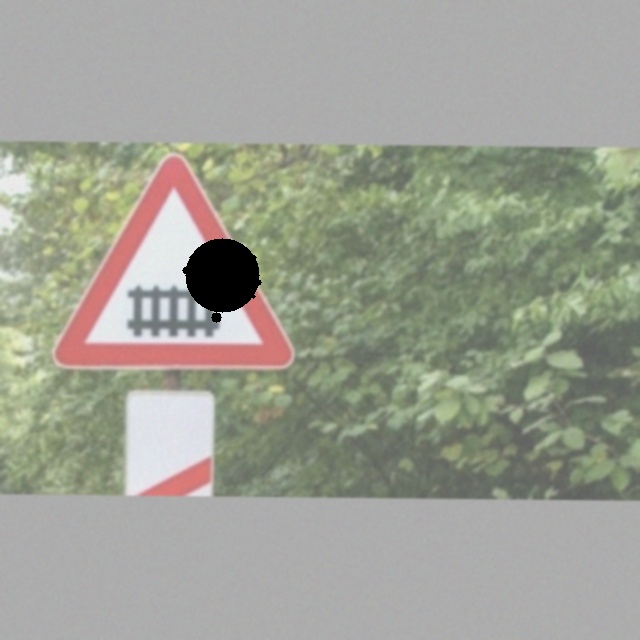Guarded_Level_Crossing: (56, 161, 290, 367)
